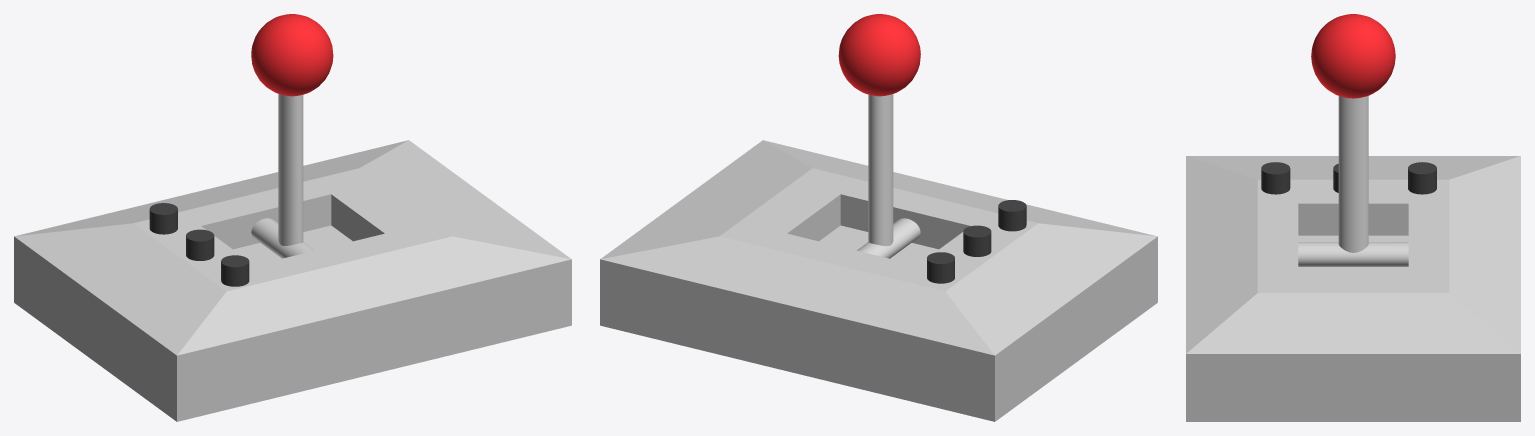
3 views of the same model, side by side, from view 1: azimuth 30°, elevation 25°; view 2: azimuth 150°, elevation 25°; view 3: azimuth 270°, elevation 25° (orthographic). The views are drawn at different scales.
Parts seen in each view (by area): view 1: Cube.001, рубильник, хуйня; view 2: Cube.001, рубильник, хуйня; view 3: Cube.001, рубильник, хуйня.
Part boxes in pixels (x1,y1,x2,y2): Cube.001: (14,140,571,421); рубильник: (251,14,333,258); хуйня: (149,203,249,286); Cube.001: (600,140,1157,421); рубильник: (838,14,920,258); хуйня: (927,200,1026,283); Cube.001: (1186,156,1520,421); рубильник: (1298,14,1408,266); хуйня: (1261,162,1436,194).
Bounding box in the file's own units: 200 × 144 × 143.
